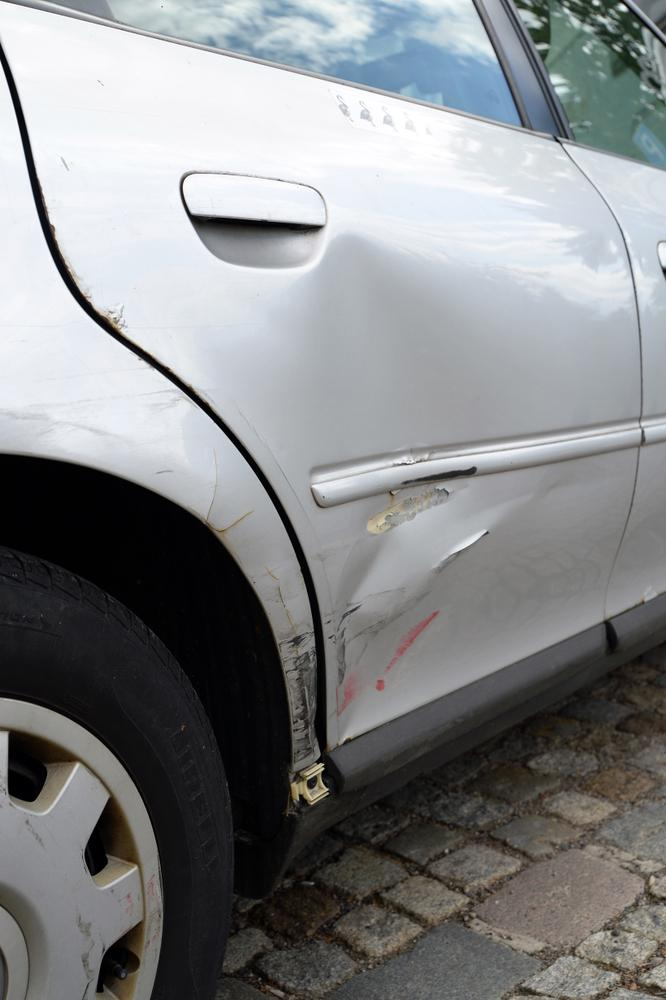dent: (217, 239, 541, 723)
scratch: (275, 625, 322, 767)
